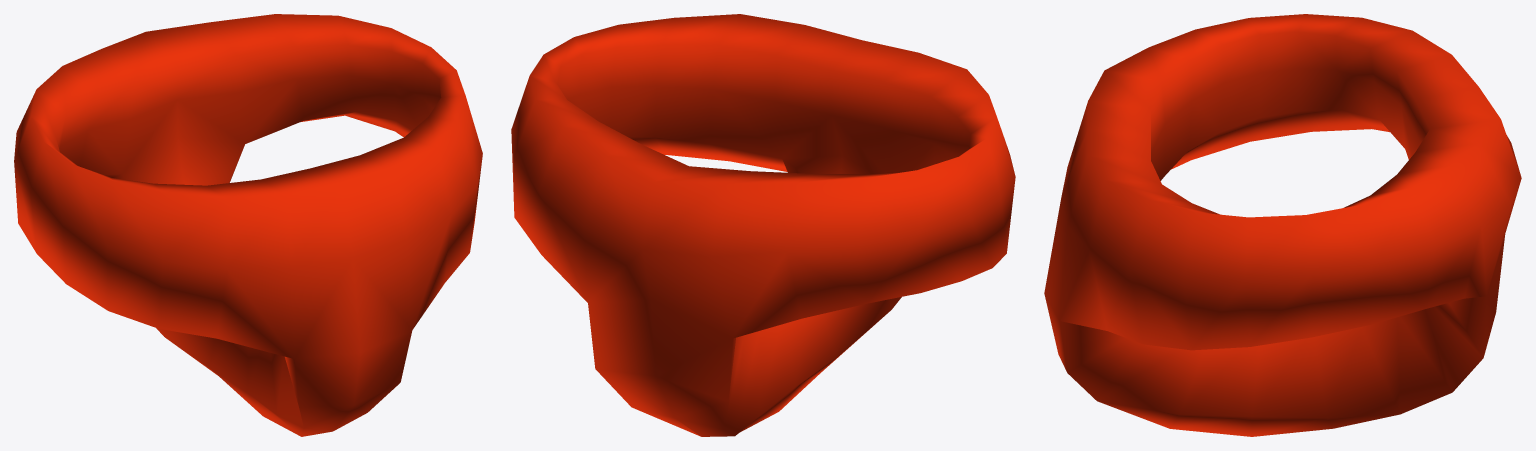
The model's file is Sumo.fbx.
3 views of the same model, side by side, from view 1: azimuth 30°, elevation 25°; view 2: azimuth 150°, elevation 25°; view 3: azimuth 270°, elevation 25° (orthographic). The views are drawn at different scales.
Parts seen in each view (by area): view 1: Sumo; view 2: Sumo; view 3: Sumo.
Boxes of the visible parts, x1=… form: Sumo: x1=14, y1=14, x2=482, y2=436; Sumo: x1=511, y1=14, x2=1015, y2=436; Sumo: x1=1044, y1=14, x2=1521, y2=436.
Bounding box in the file's own units: 75.12 × 54.18 × 71.46.
